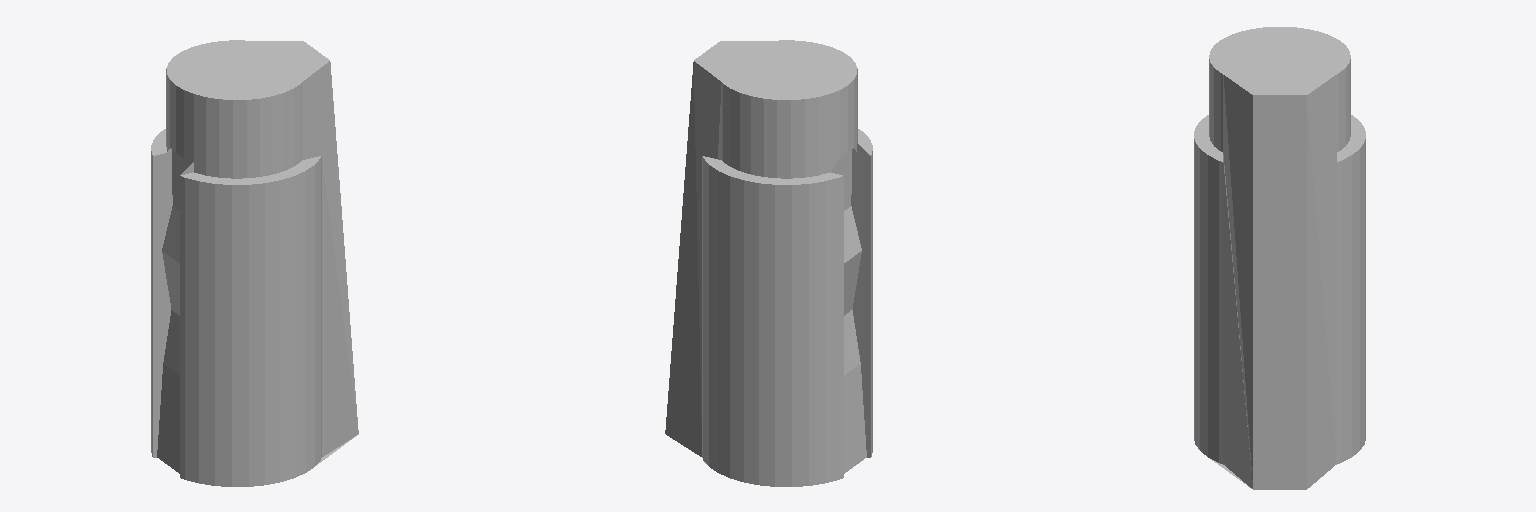
File: Meters_Boolean_for_XLR.obj
3 renders of one model, left to right at view 1: azimuth 30°, elevation 25°; view 2: azimuth 150°, elevation 25°; view 3: azimuth 270°, elevation 25°, orthographic.
Parts seen in each view (by area): view 1: Cylinder.001; view 2: Cylinder.001; view 3: Cylinder.001.
Part boxes in pixels (bbox=[...]): Cylinder.001: bbox=[151, 40, 358, 486]; Cylinder.001: bbox=[665, 40, 872, 486]; Cylinder.001: bbox=[1194, 27, 1365, 489].
Size of the model in its own units: 17.34 by 35.27 by 14.5.